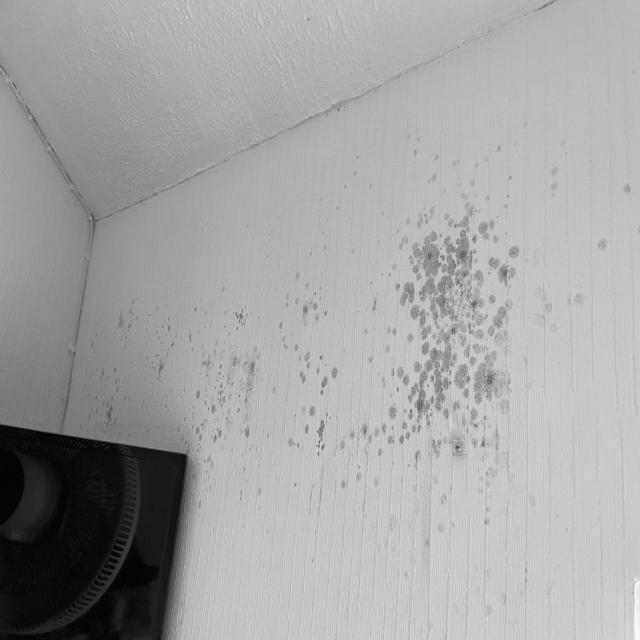stain marks: (378, 184, 532, 480), (376, 483, 585, 640), (270, 261, 378, 534), (528, 172, 632, 338), (80, 296, 180, 435), (288, 142, 380, 262), (190, 298, 252, 462), (380, 116, 528, 178)
